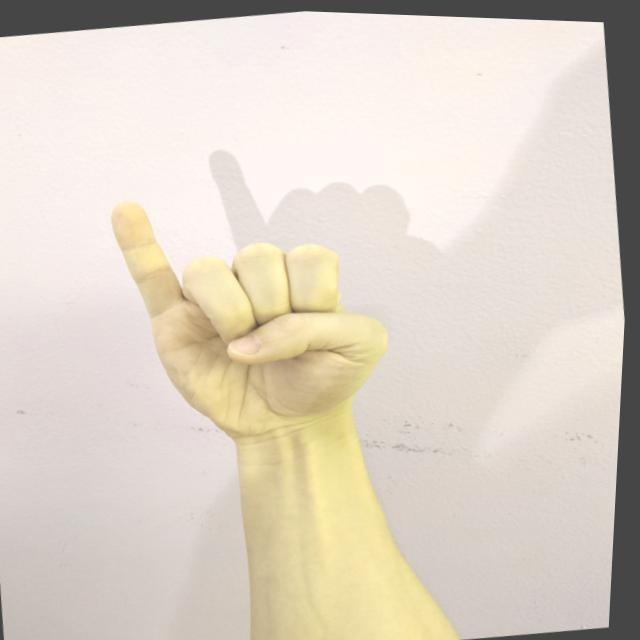I: (95, 164, 415, 457)
